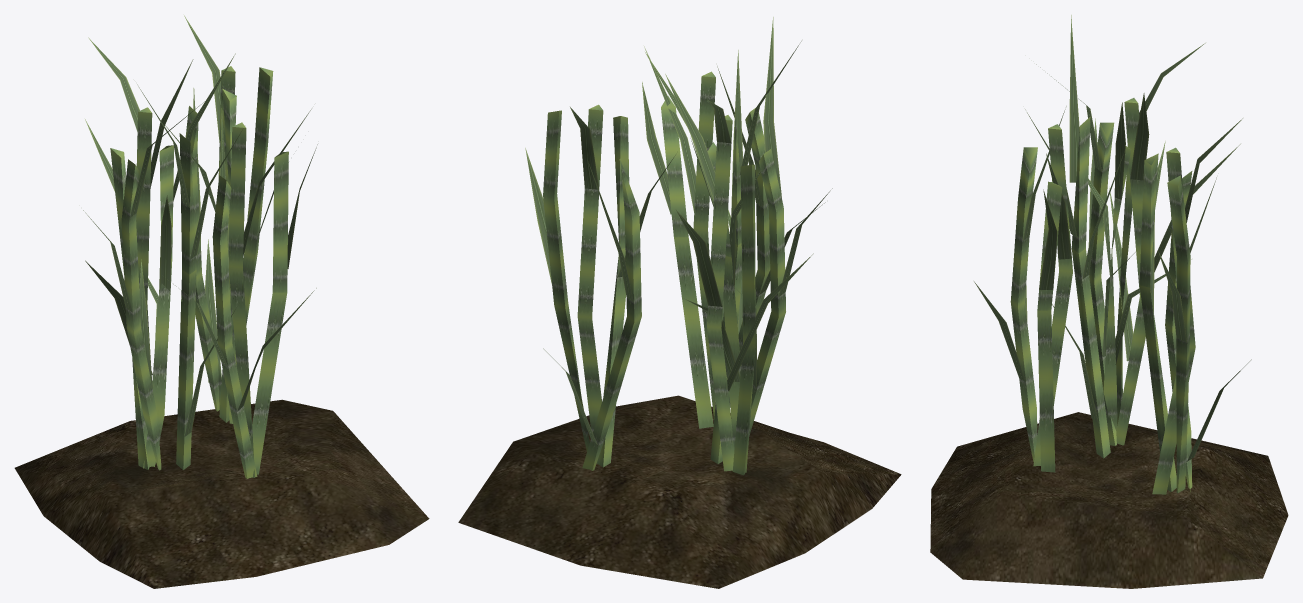
The model's file is pir_m_prp_frm_sugarCane.fbx.
The picture shows the model from 3 angles, left to right: view 1: azimuth 30°, elevation 25°; view 2: azimuth 150°, elevation 25°; view 3: azimuth 270°, elevation 25°; orthographic projection. The views are drawn at different scales.
Visible parts, largest first — view 1: groundSoil, polySurface106, polySurface85, polySurface107, polySurface87, polySurface108, polySurface102, polySurface94, polySurface105, polySurface91, polySurface109, polySurface103 (+7 smaller); view 2: groundSoil, polySurface106, polySurface91, polySurface104, polySurface105, polySurface109, polySurface102, polySurface87, polySurface103, polySurface108, polySurface107, polySurface94 (+10 smaller); view 3: groundSoil, polySurface85, polySurface107, polySurface102, polySurface103, polySurface106, polySurface91, polySurface87, polySurface108, polySurface104, polySurface94, polySurface105 (+12 smaller).
Part boxes in pixels (bbox=[...]): groundSoil: bbox=[14, 399, 429, 588]; polySurface106: bbox=[244, 151, 288, 474]; polySurface85: bbox=[176, 133, 196, 469]; polySurface107: bbox=[212, 175, 257, 478]; polySurface87: bbox=[121, 159, 161, 470]; polySurface108: bbox=[229, 122, 255, 477]; polySurface102: bbox=[243, 67, 273, 324]; polySurface94: bbox=[143, 145, 173, 468]; polySurface105: bbox=[185, 106, 221, 411]; polySurface91: bbox=[136, 107, 156, 464]; polySurface109: bbox=[110, 148, 149, 469]; polySurface103: bbox=[219, 89, 236, 422]; groundSoil: bbox=[458, 395, 901, 588]; polySurface106: bbox=[661, 96, 713, 428]; polySurface91: bbox=[707, 115, 734, 471]; polySurface104: bbox=[577, 104, 603, 432]; polySurface105: bbox=[582, 159, 641, 470]; polySurface109: bbox=[732, 164, 755, 475]; polySurface102: bbox=[543, 110, 589, 451]; polySurface87: bbox=[749, 149, 785, 436]; polySurface103: bbox=[596, 116, 629, 467]; polySurface108: bbox=[693, 71, 715, 419]; polySurface107: bbox=[713, 108, 770, 419]; polySurface94: bbox=[708, 142, 746, 472]; groundSoil: bbox=[930, 412, 1288, 588]; polySurface85: bbox=[1071, 116, 1110, 458]; polySurface107: bbox=[1010, 147, 1037, 465]; polySurface102: bbox=[1167, 175, 1190, 493]; polySurface103: bbox=[1139, 153, 1176, 491]; polySurface106: bbox=[1037, 181, 1062, 472]; polySurface91: bbox=[1116, 98, 1145, 445]; polySurface87: bbox=[1089, 122, 1116, 445]; polySurface108: bbox=[1033, 124, 1072, 466]; polySurface104: bbox=[1152, 147, 1195, 494]; polySurface94: bbox=[1103, 146, 1131, 434]; polySurface105: bbox=[1165, 171, 1192, 491].
Bounding box in the file's own units: 362 × 512 × 369.
1 material, 1 textured.
